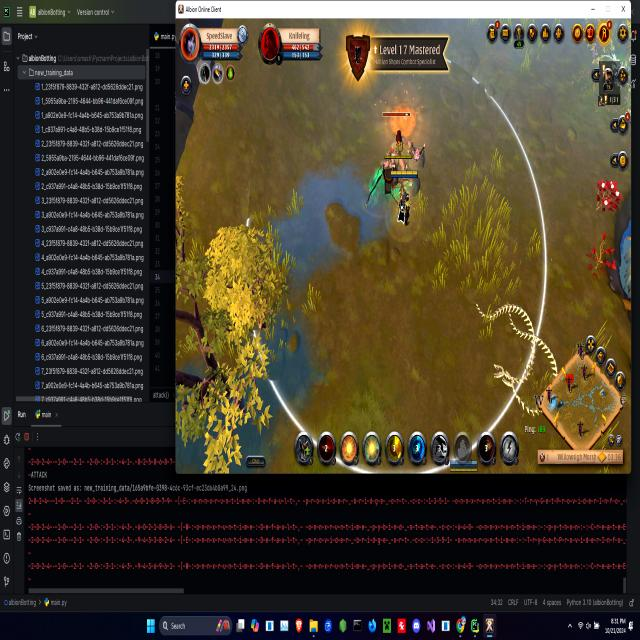hide: (594, 173, 626, 218)
ore: (381, 104, 418, 178)
red: (388, 168, 417, 229)
